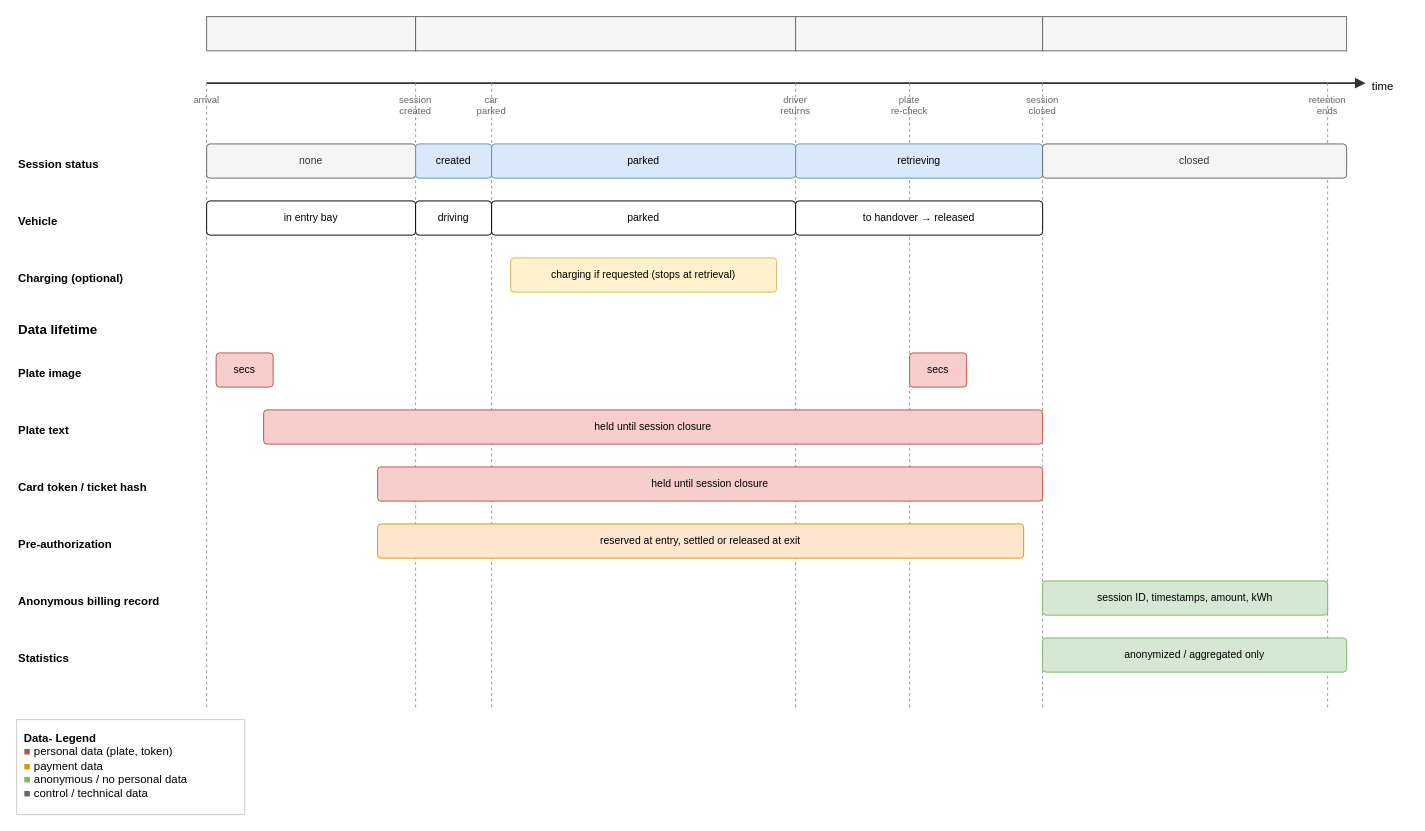
Image size: 1425x831. Some labels were removed from this diagram. The shapes that lost their labels are listed below. From the top down, each one's centre as x and y in pixels, then its label:
the point at 311,33: Entry (≈ 1 min)
the point at 605,33: Parked / Charging (hours)
the point at 919,33: Retrieval (minutes)
the point at 1194,33: After closure (legal retention period)
